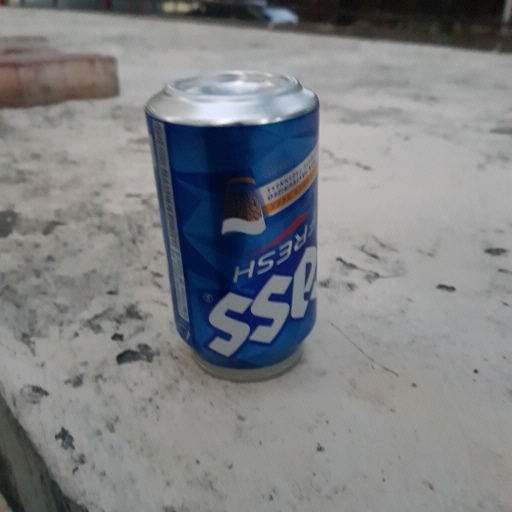Metal_0: (137, 68, 323, 383)
